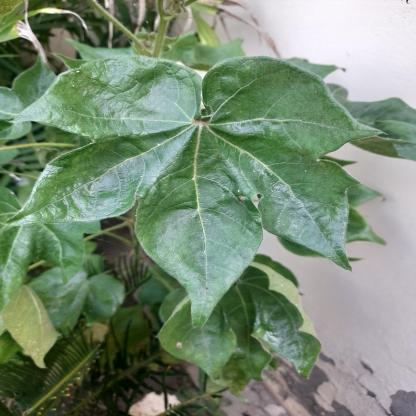curl_stage1: (11, 295, 58, 355), (165, 324, 206, 362)
healthy: (244, 157, 342, 226), (172, 203, 249, 270), (224, 77, 292, 137), (127, 87, 198, 131), (37, 174, 105, 213), (94, 151, 167, 187), (298, 101, 356, 144), (267, 310, 312, 362), (52, 94, 105, 132)
